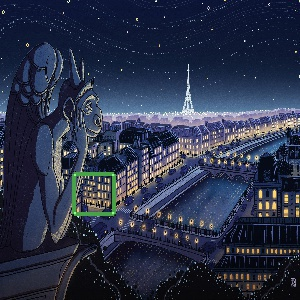square: (71, 171, 117, 216)
